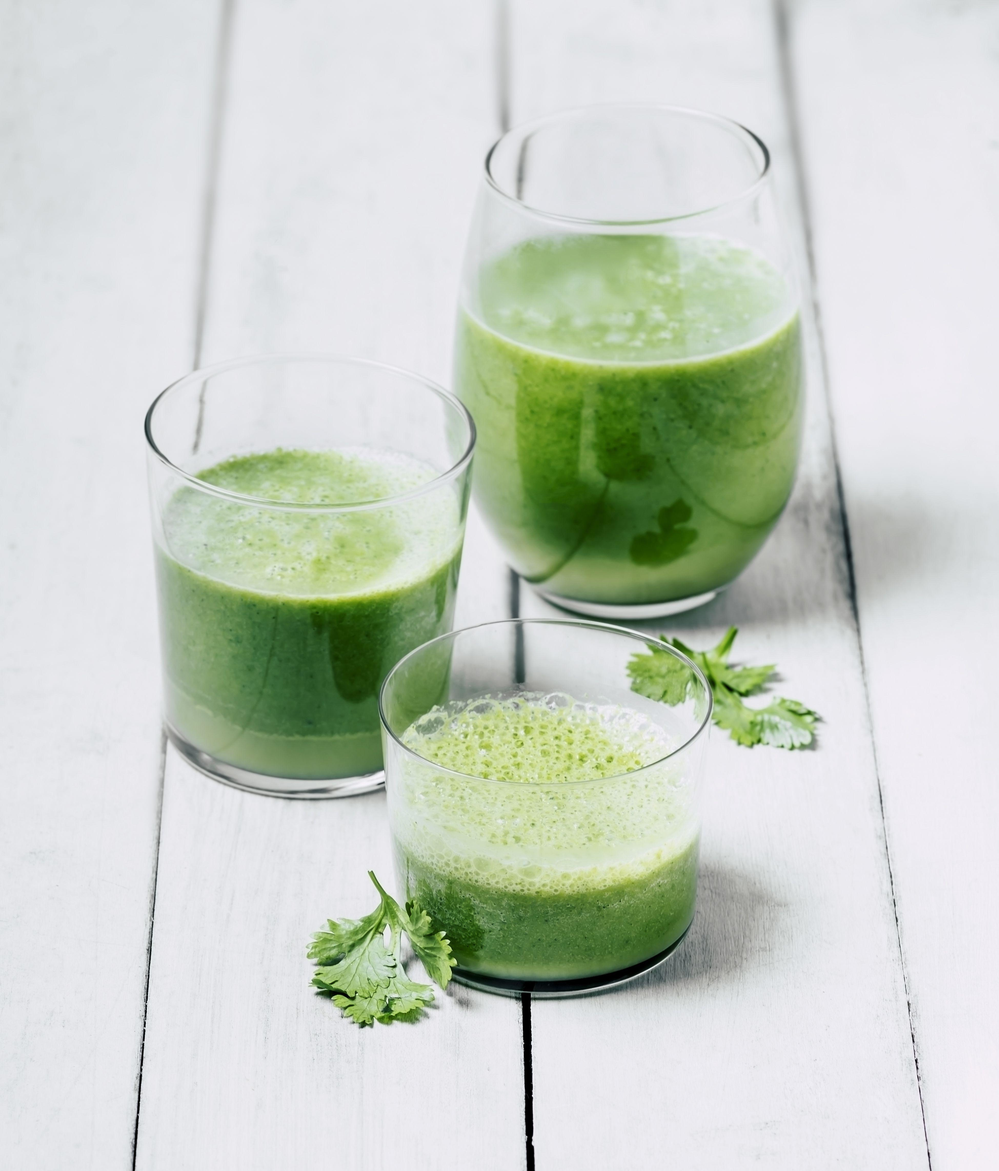glass-normal: (444, 106, 813, 619), (137, 351, 479, 797), (375, 612, 717, 999)
